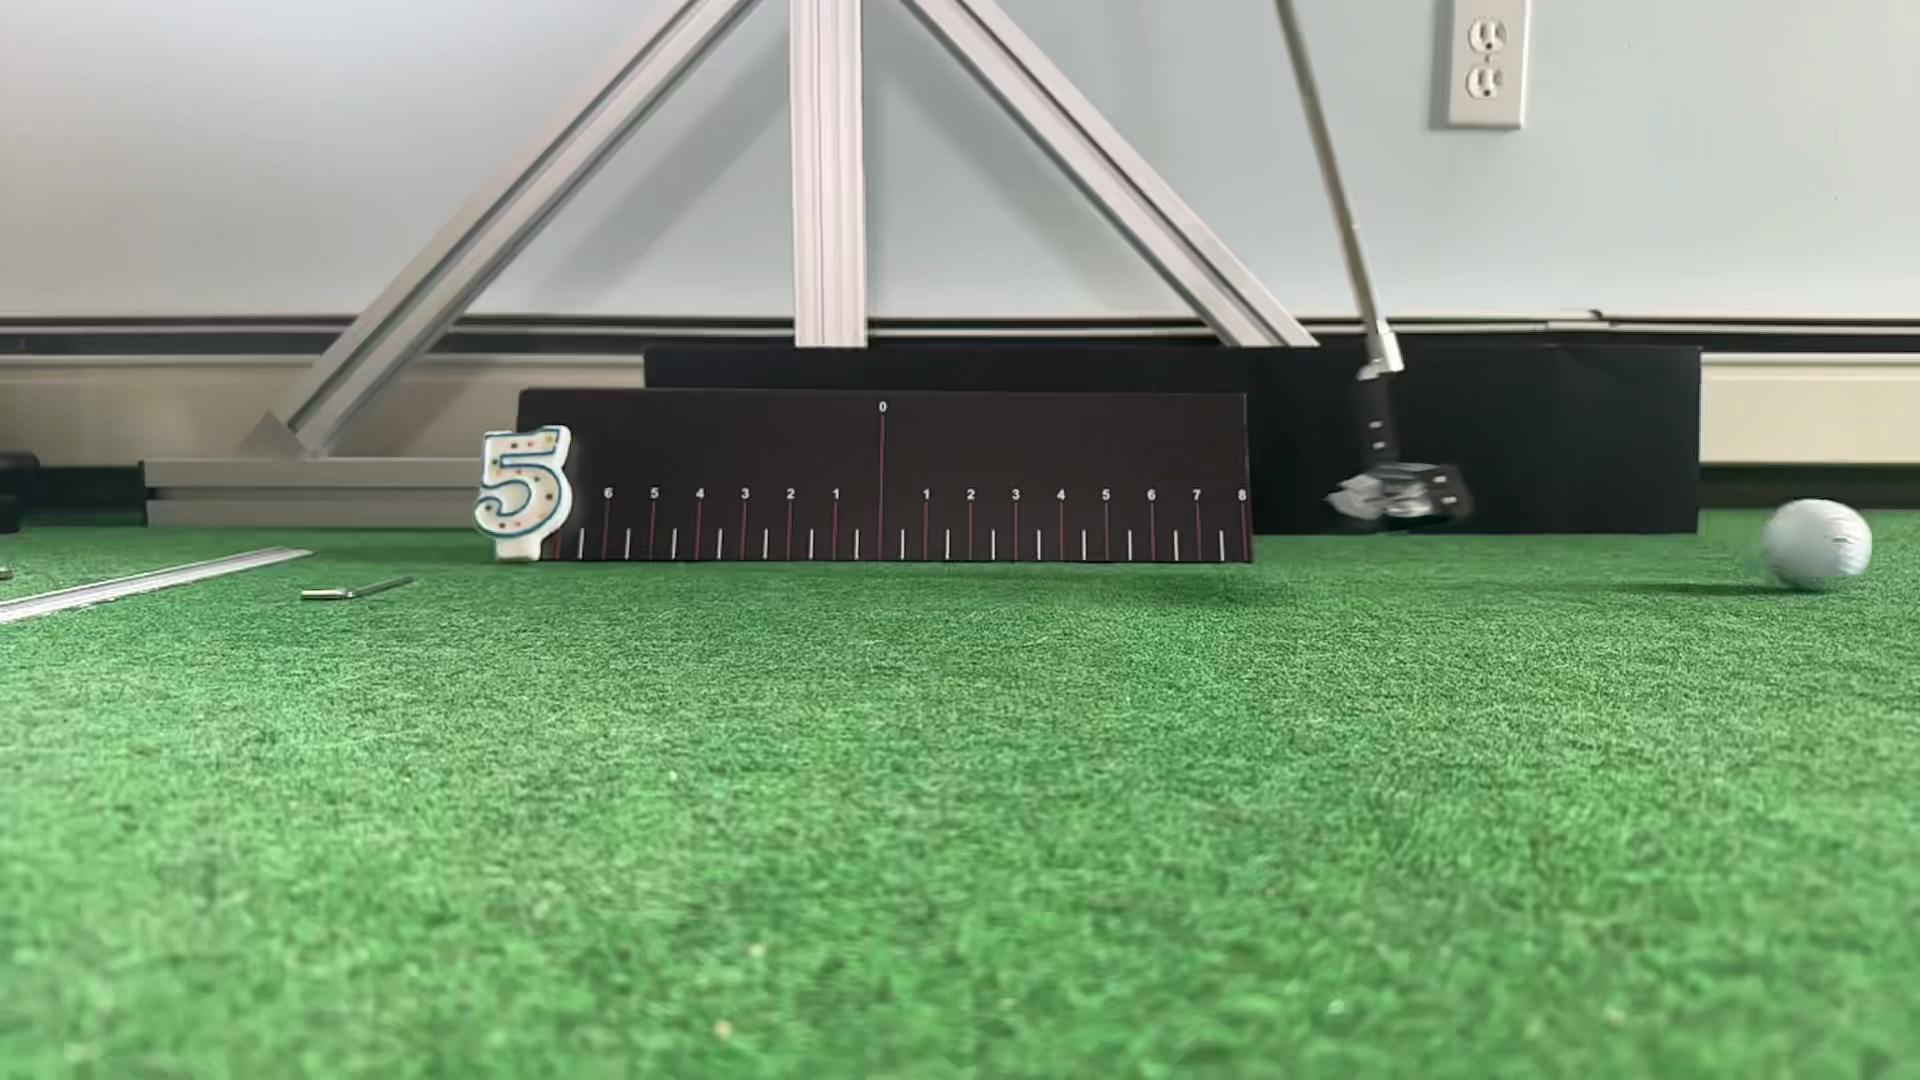golfball: (1762, 498, 1872, 592)
